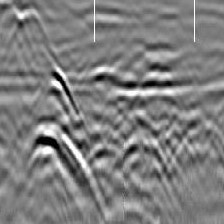Utility: (28, 64, 99, 224), (107, 106, 223, 184)
